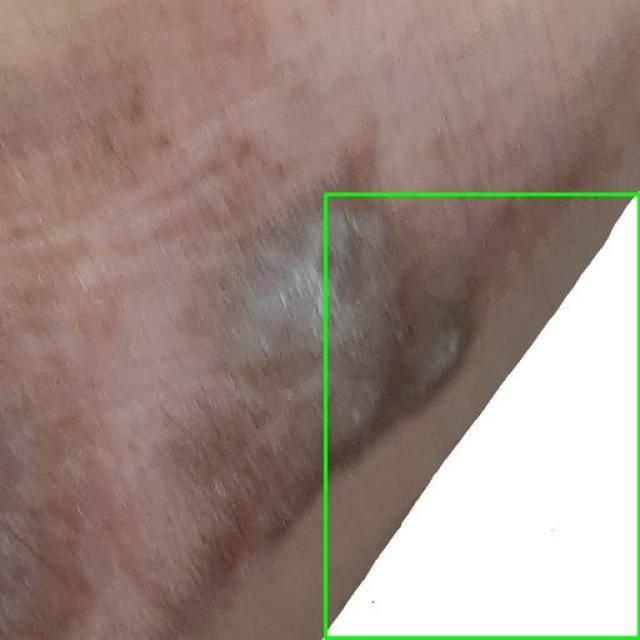Contact Dermatitis: (325, 195, 639, 639)
